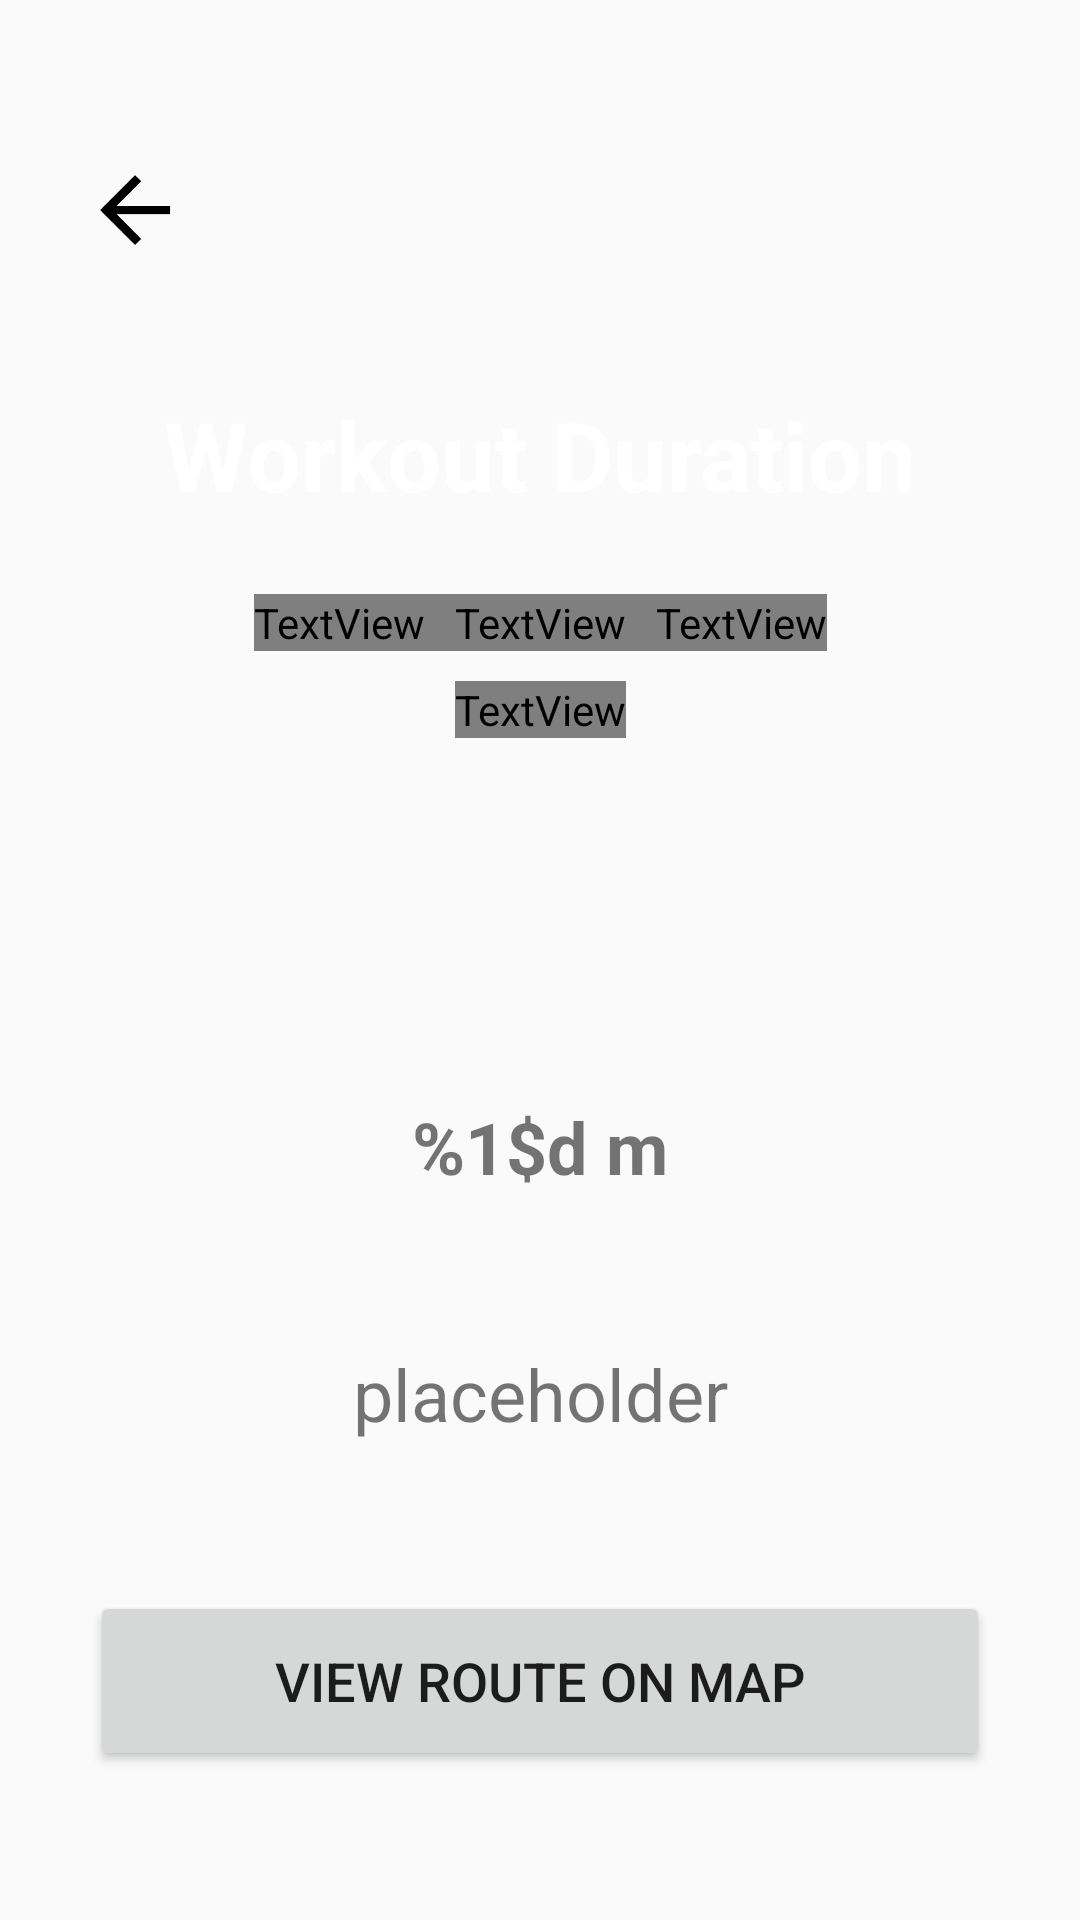

Screen size 1080 × 1920. Icon name, then its box in pixels as bbox=(x1, y1, x2, y2):
back arrow: bbox=(100, 175, 170, 245)
